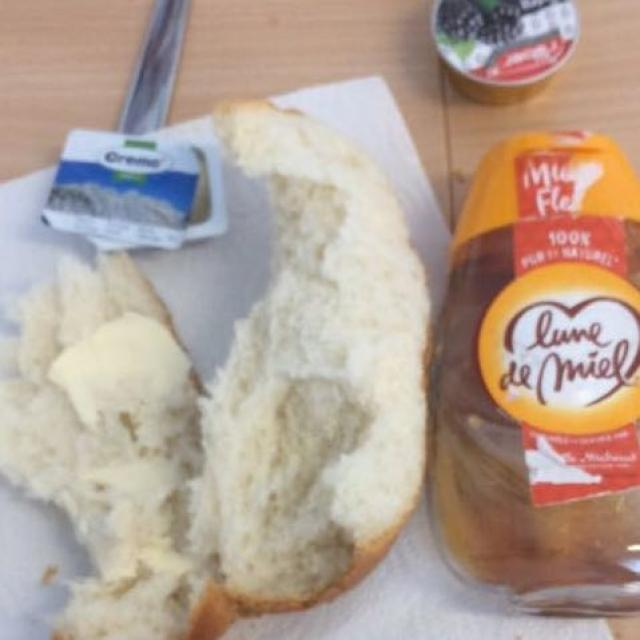bread-white: (14, 112, 424, 619)
